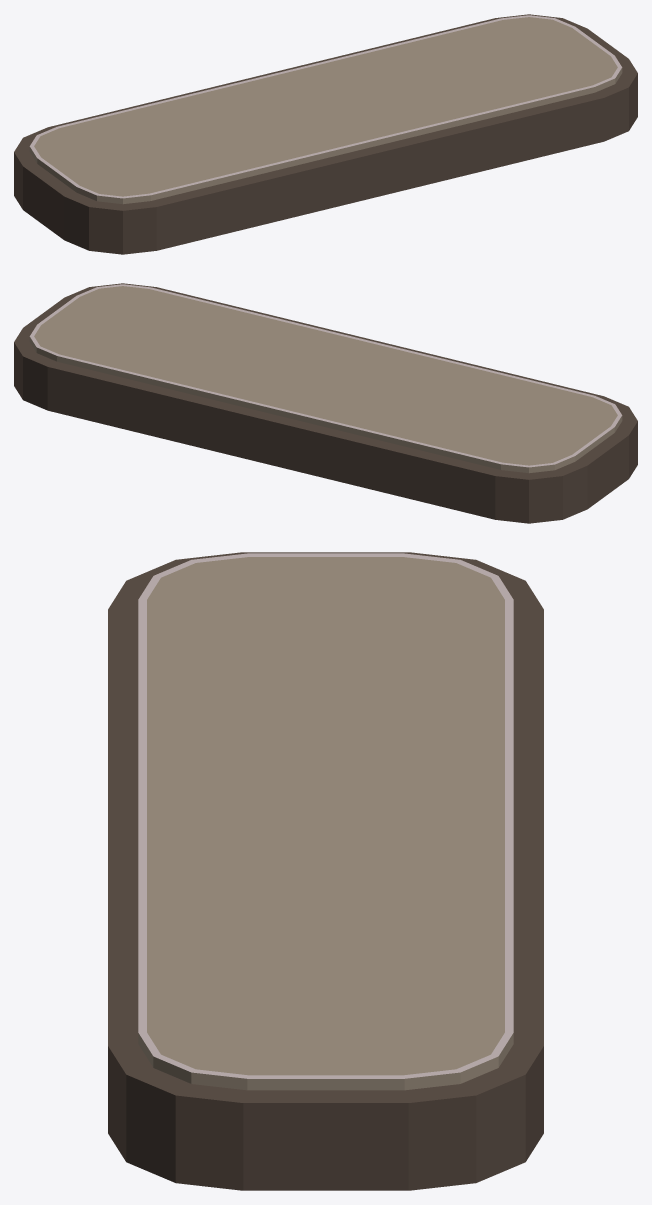
Rendered from stand.glb.
The picture shows the model from 3 angles, top to bottom: view 1: azimuth 30°, elevation 25°; view 2: azimuth 150°, elevation 25°; view 3: azimuth 270°, elevation 25°; orthographic projection. The views are drawn at different scales.
Visible parts, largest first — view 1: stand; view 2: stand; view 3: stand.
Boxes of the visible parts, box(x1,y1,x2,y2) form: stand: box(14, 14, 637, 254); stand: box(14, 283, 637, 523); stand: box(108, 552, 543, 1190).
Size of what is drawn, in the model's own units: 5.98 by 0.5023 by 2.
1 material, 1 textured.
